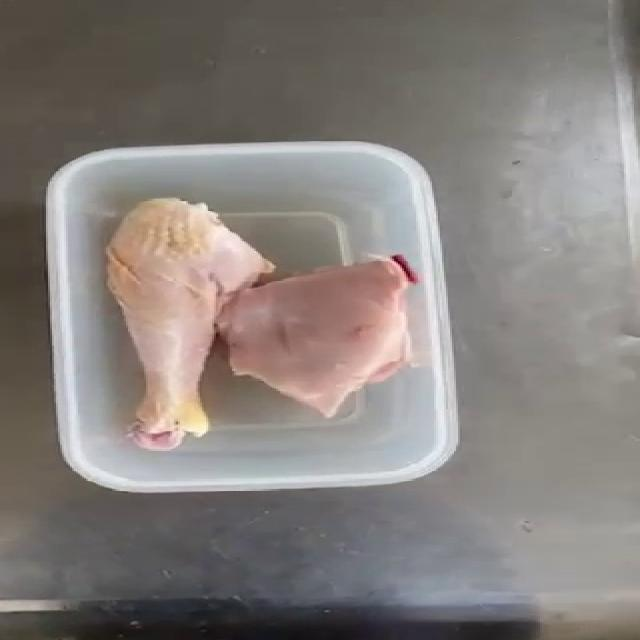chicken: (104, 196, 276, 451), (214, 252, 419, 419)
